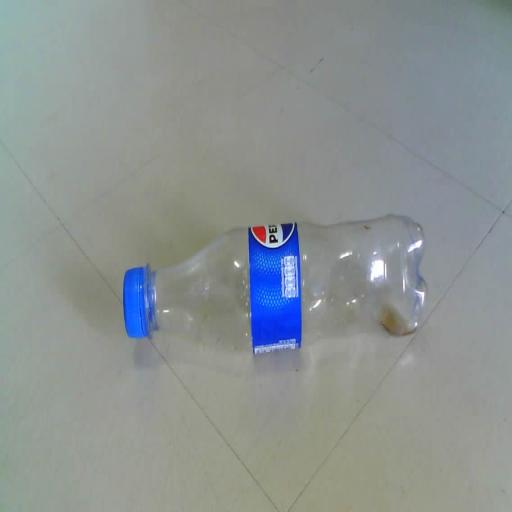bottle: (97, 190, 432, 396)
